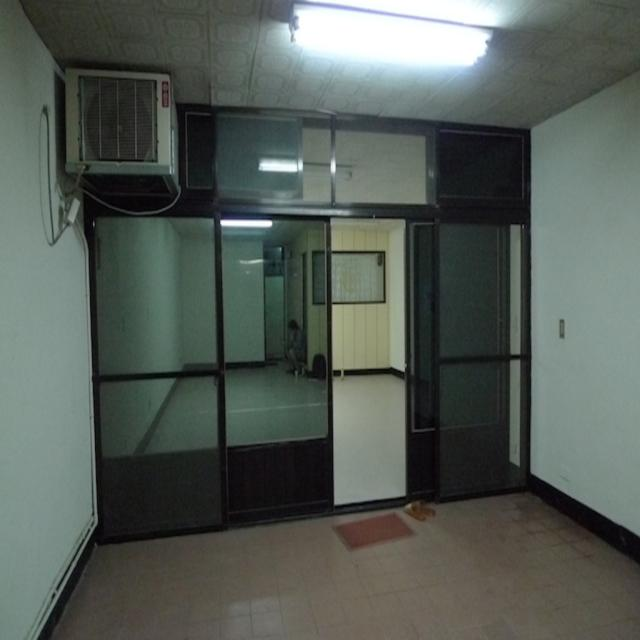door_local: (216, 211, 414, 519)
